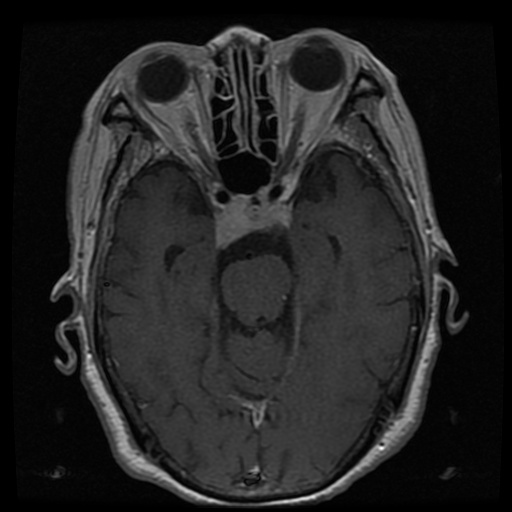pituitary: (218, 194, 291, 248)
